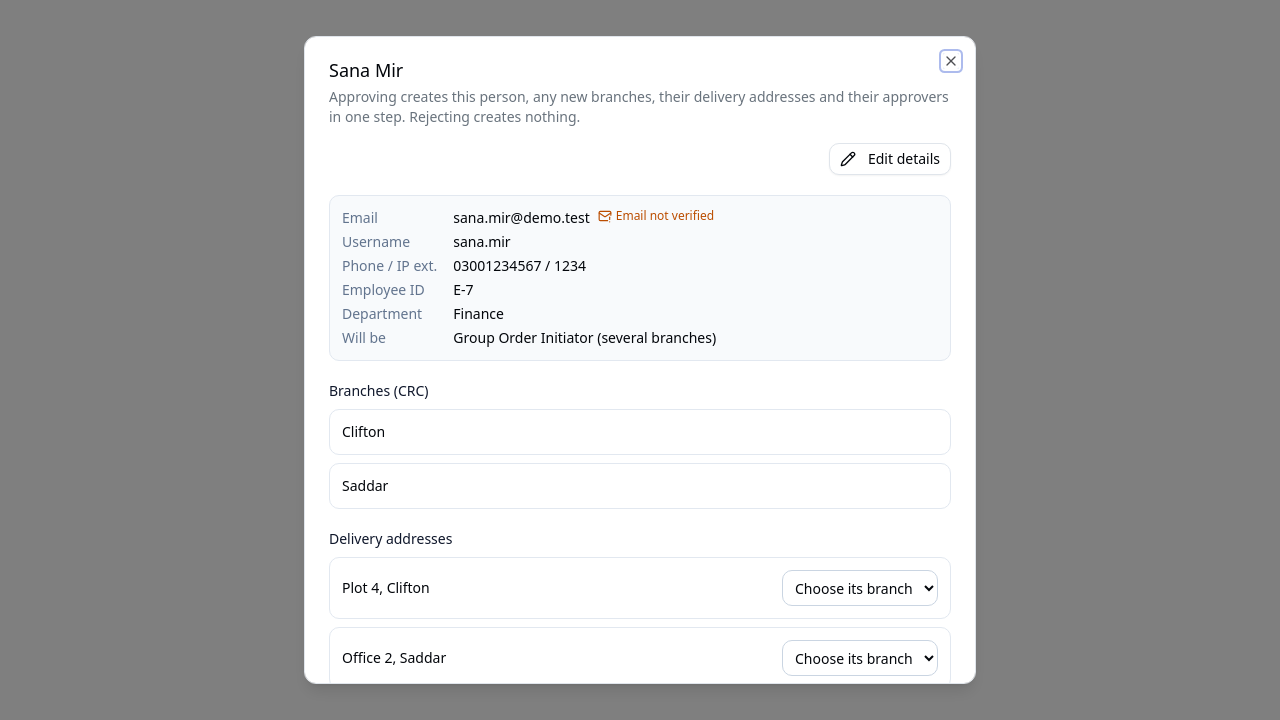
it: DepartmentJoinReviewDialog — editing › swaps the review for the edit form and hides the decision while editing
Click the button "Edit details": (890, 159) [829, 143, 951, 175]
(page scrolled)
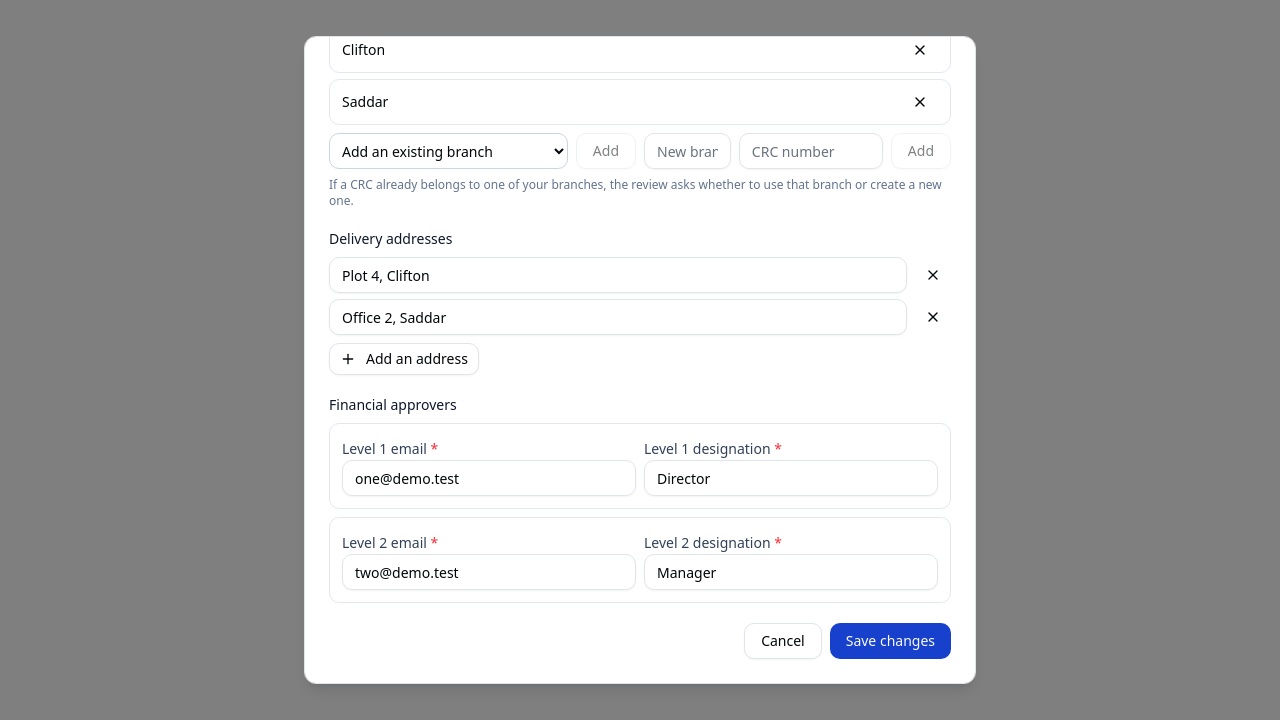
Check: the button "Approve and create accounts" is not shown
Check: the text "Reject" is gone
Click the button "Cancel": (783, 641) [744, 623, 822, 659]
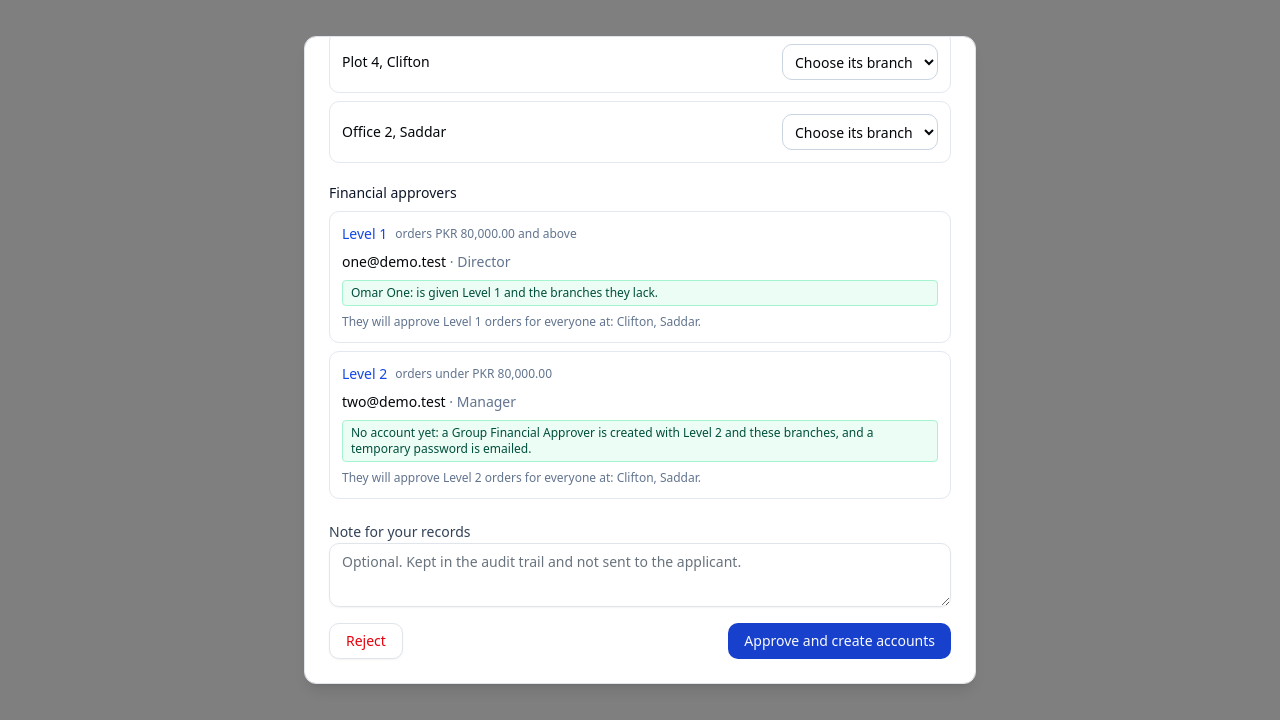
Check: the button "Approve and create accounts" is shown, box [728, 623, 951, 659]
